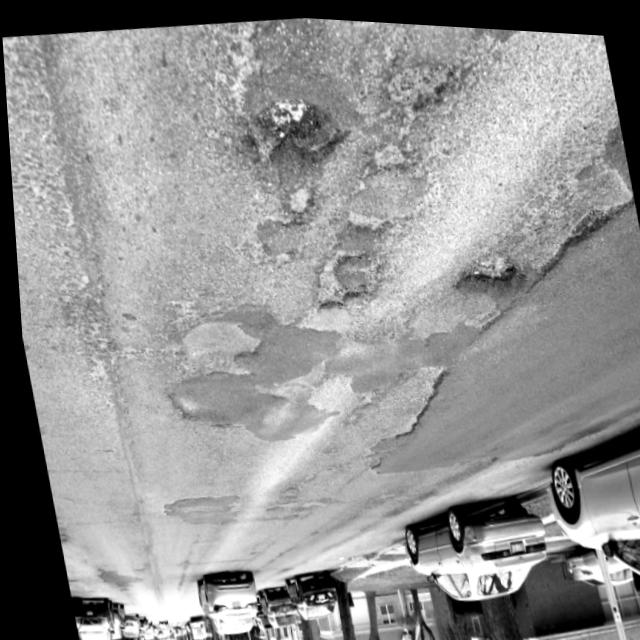pathole: (201, 76, 418, 218), (279, 220, 395, 322), (436, 229, 530, 306)
